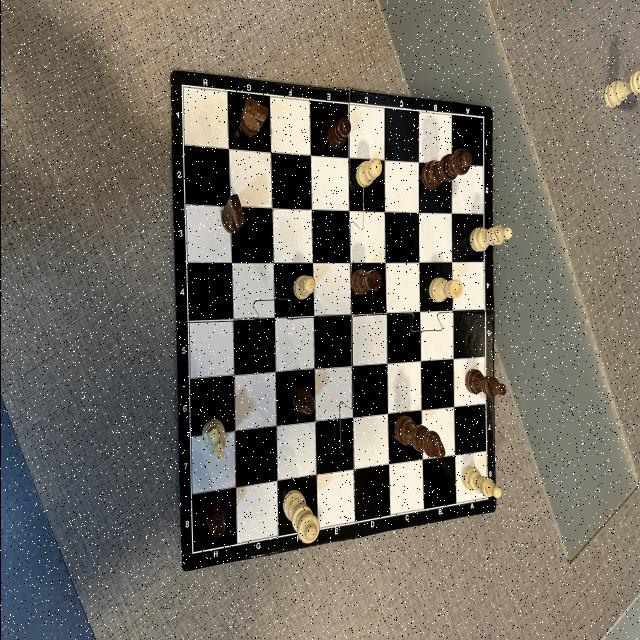Black-Bishop: (464, 368, 506, 398)
Black-King: (392, 415, 444, 459)
Black-Knight: (238, 97, 268, 137), (220, 193, 244, 234)
Black-Pawn: (326, 117, 350, 150), (204, 502, 224, 538), (290, 386, 314, 414)
Black-Queen: (419, 148, 472, 192)
Black-Rook: (349, 268, 382, 296)
White-Bishop: (459, 465, 502, 499), (468, 224, 512, 253)
White-Knight: (202, 418, 226, 460)
White-Pawn: (354, 158, 382, 188), (292, 274, 314, 300)
White-Queen: (282, 490, 318, 544)
White-Rook: (428, 277, 462, 304)
